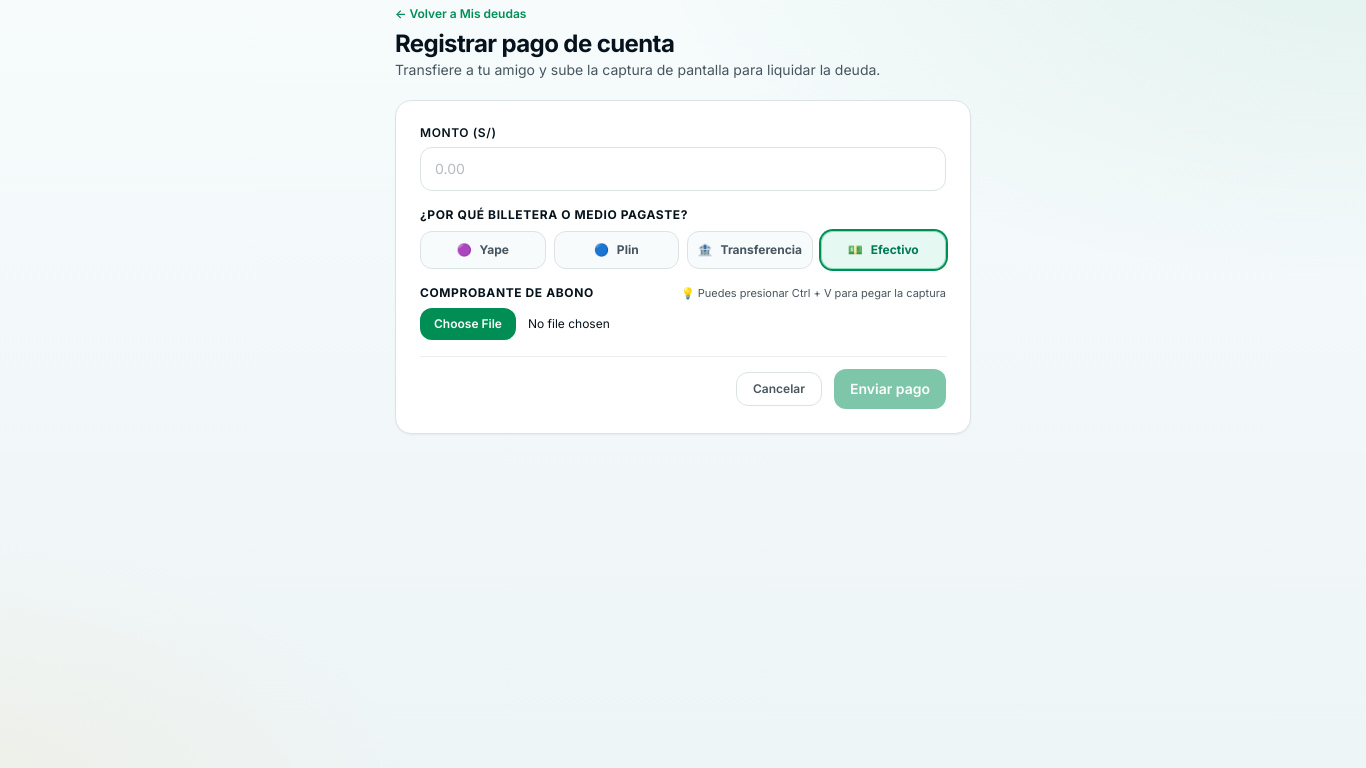
Pago › valida monto antes de enviar
This screenshot has width=1366, height=768.
Expected: the button "Enviar pago" is disabled, [834,368,946,408]
In the field labelled "Monto (S/)": point(683, 169) [420,147,946,191], type "50"
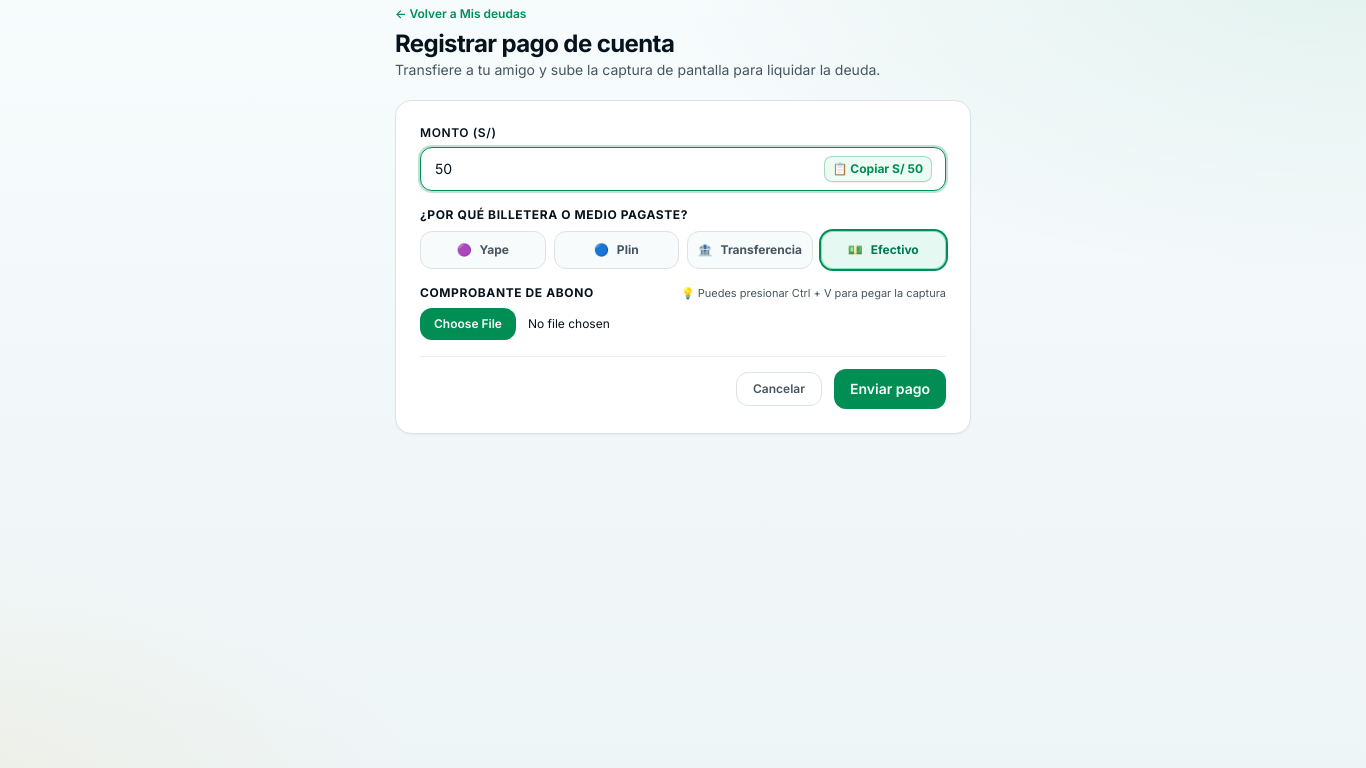
Expected: the button "Enviar pago" is enabled, [834,368,946,408]
